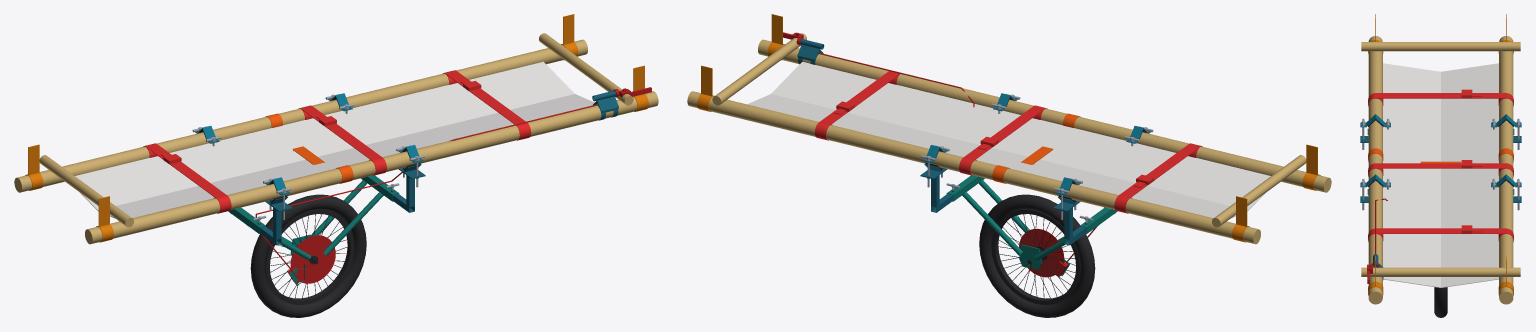
The picture shows the model from 3 angles, left to right: view 1: azimuth 30°, elevation 25°; view 2: azimuth 150°, elevation 25°; view 3: azimuth 270°, elevation 25°; orthographic projection. The views are drawn at different scales.
Parts seen in each view (by area): view 1: Cloth bed (the family's doli), Bamboo poles and cross sticks (the family's doli), Wheel, Patient straps, Fork unit, Bearer harness pole loops, Disc brake set, Side arms, right, Brake lever and cable, Upper jaws, T-handle bolts and set screws, Cross strap (+1 smaller); view 2: Cloth bed (the family's doli), Bamboo poles and cross sticks (the family's doli), Wheel, Patient straps, Fork unit, Bearer harness pole loops, Side arms, left, Disc brake set, Upper jaws, T-handle bolts and set screws, Cross strap, Brake lever and cable (+1 smaller); view 3: Cloth bed (the family's doli), Bamboo poles and cross sticks (the family's doli), Patient straps, Upper jaws, T-handle bolts and set screws, Wheel, Bearer harness pole loops, Cross strap, Brake lever and cable, Side arms, left, Side arms, right, Jaw liners.
Part boxes in pixels (x1,y1,x2,y2): Cloth bed (the family's doli): [75, 61, 594, 218]; Bamboo poles and cross sticks (the family's doli): [14, 33, 658, 244]; Wheel: [250, 194, 366, 317]; Patient straps: [143, 70, 531, 213]; Fork unit: [228, 175, 399, 285]; Bearer harness pole loops: [25, 14, 648, 242]; Disc brake set: [287, 235, 335, 283]; Side arms, right: [259, 164, 425, 245]; Brake lever and cable: [255, 87, 651, 277]; Upper jaws: [195, 93, 423, 195]; T-handle bolts and set screws: [192, 94, 424, 222]; Cross strap: [265, 113, 353, 183]; Cloth bed (the family's doli): [747, 62, 1270, 218]; Bamboo poles and cross sticks (the family's doli): [687, 33, 1331, 244]; Wheel: [979, 194, 1095, 317]; Patient straps: [814, 71, 1202, 213]; Fork unit: [946, 175, 1117, 276]; Bearer harness pole loops: [697, 14, 1320, 242]; Side arms, left: [920, 164, 1086, 245]; Disc brake set: [1019, 228, 1068, 277]; Upper jaws: [922, 93, 1150, 195]; T-handle bolts and set screws: [921, 94, 1153, 222]; Cross strap: [992, 113, 1080, 183]; Brake lever and cable: [783, 32, 1104, 261]; Cloth bed (the family's doli): [1383, 63, 1498, 287]; Bamboo poles and cross sticks (the family's doli): [1361, 36, 1520, 304]; Patient straps: [1368, 89, 1513, 241]; Upper jaws: [1360, 114, 1521, 187]; T-handle bolts and set screws: [1361, 118, 1520, 210]; Wheel: [1434, 287, 1447, 317]; Bearer harness pole loops: [1368, 14, 1513, 295]; Cross strap: [1368, 148, 1513, 163]; Brake lever and cable: [1367, 198, 1387, 283]; Side arms, left: [1513, 128, 1521, 202]; Side arms, right: [1360, 128, 1368, 202]; Jaw liners: [1368, 119, 1513, 187].
Bounding box in the file's own units: 2.55 × 0.8725 × 0.68.
